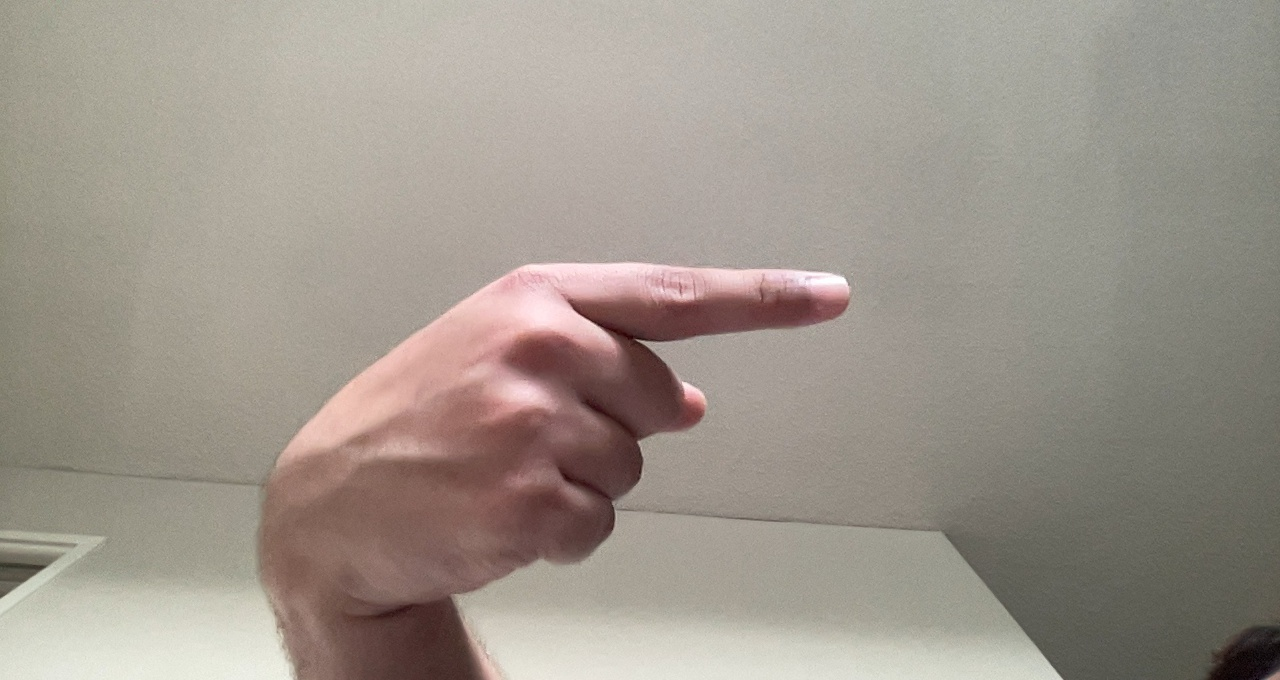fingerleft: (249, 250, 863, 614)
